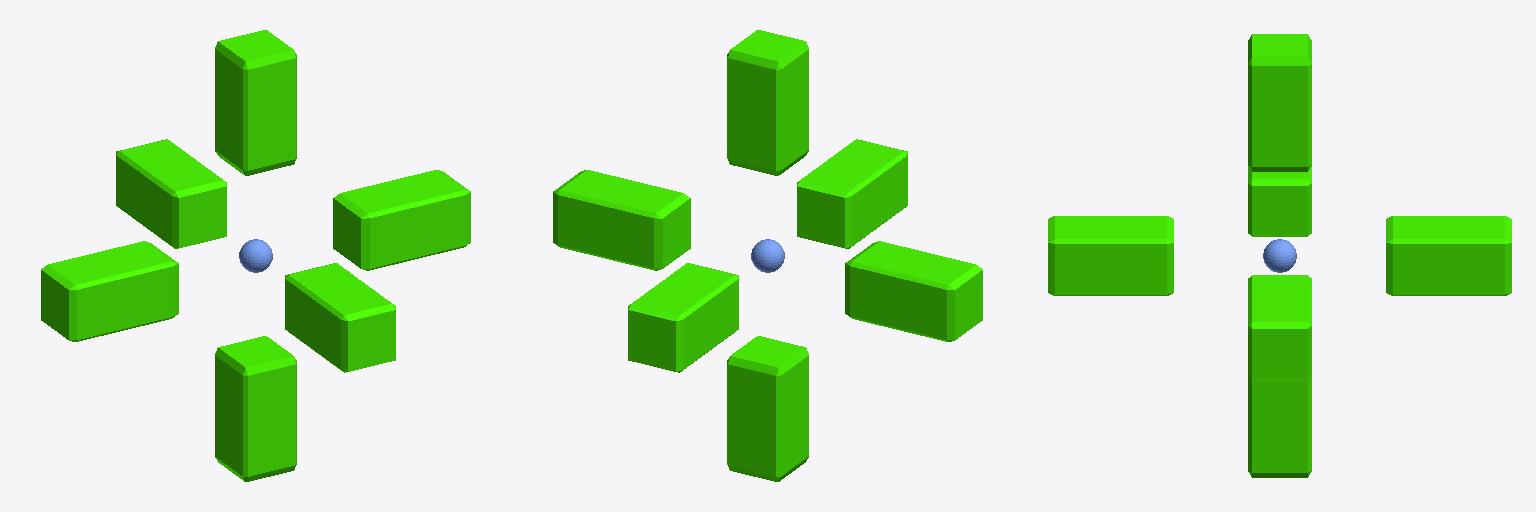
File: Cursor-Placement.obj
3 views of the same model, side by side, from view 1: azimuth 30°, elevation 25°; view 2: azimuth 150°, elevation 25°; view 3: azimuth 270°, elevation 25° (orthographic).
Visible parts, largest first — view 1: Cube; view 2: Cube; view 3: Cube.
Boxes of the visible parts, x1=… form: Cube: x1=41, y1=30, x2=470, y2=481; Cube: x1=553, y1=30, x2=982, y2=481; Cube: x1=1048, y1=34, x2=1511, y2=477.
Bounding box in the file's own units: 2.75 × 2.75 × 2.75.